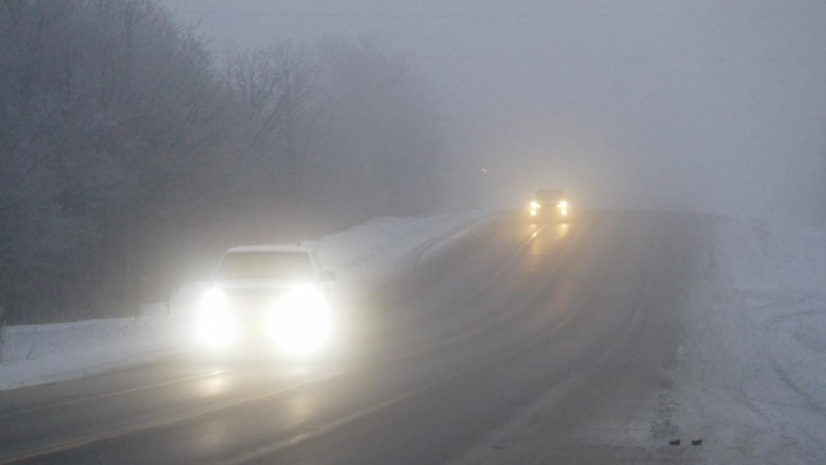car: (196, 245, 339, 361), (525, 186, 574, 223)
